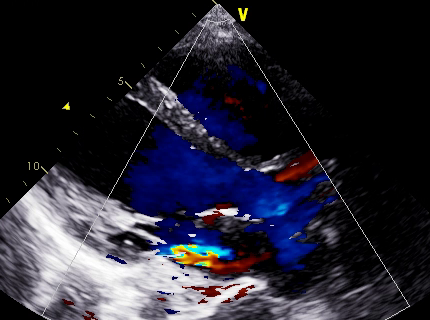MR: (162, 203, 230, 277)
